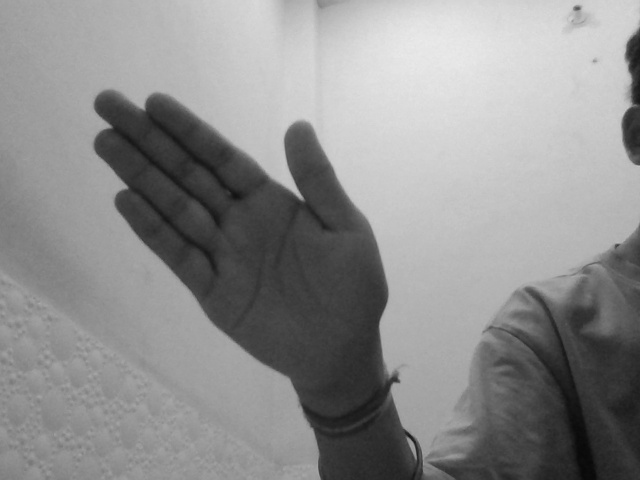Hello: (87, 87, 390, 391)
